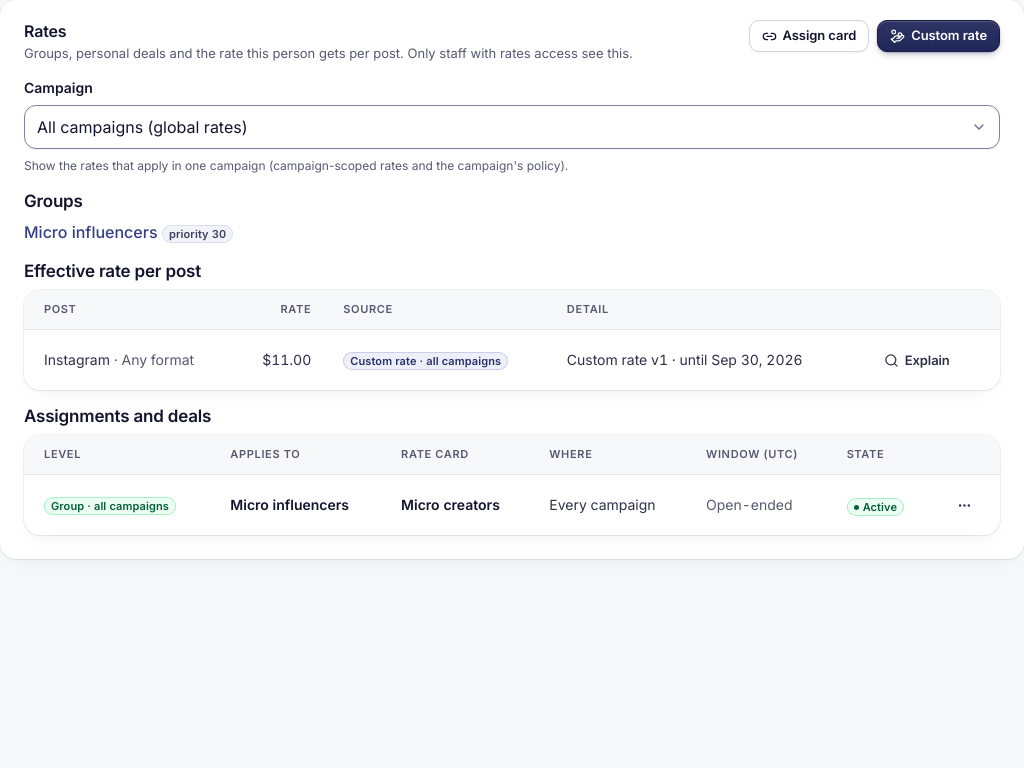
Test: PersonRatesSection › shows the effective rate and explains which rule won
Expected: the text "Custom rate · all campaigns" is shown, [343,352,508,370]
Expected: the link "Micro influencers" next to "priority 30" is shown, [24,222,158,242]
Click the button "Explain" at (917, 360), box [871,344,963,376]
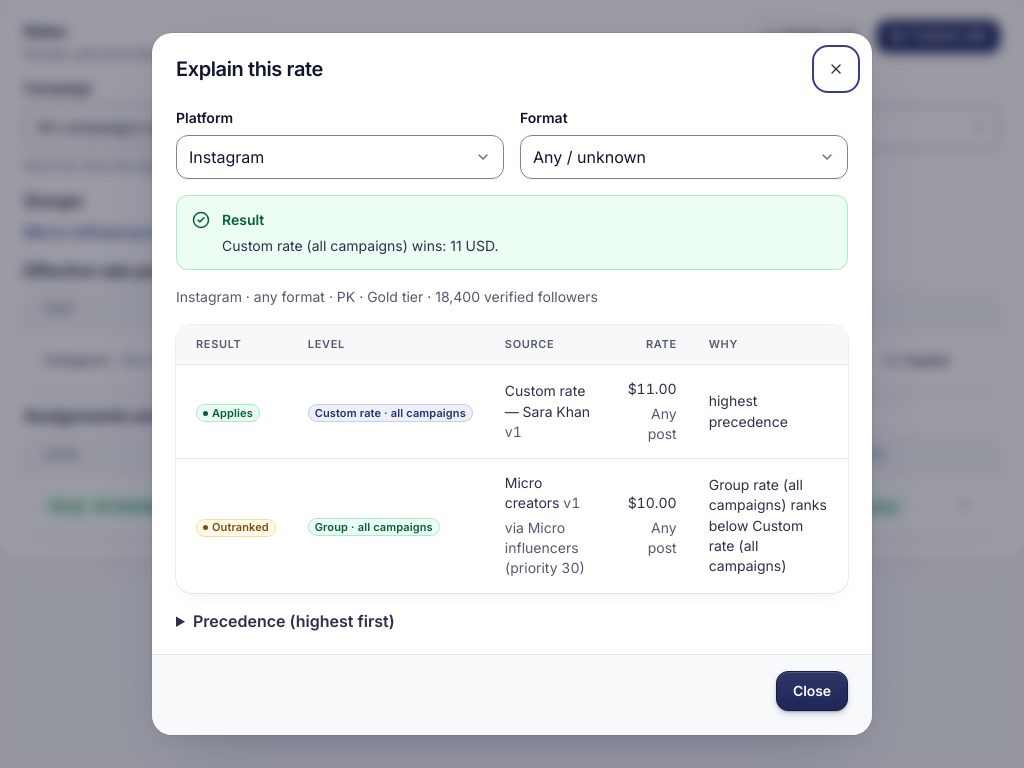
Expected: the text "Custom rate (all campaigns) wins: 11 USD." is shown, [222,237,498,254]
Expected: the text "Applies" is shown, [196,404,260,422]
Expected: the text "Outranked" is shown, [196,519,276,537]
